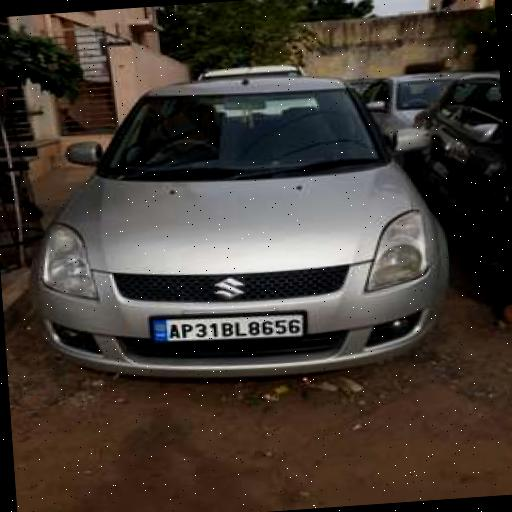license_plate`: (150, 308, 300, 342)
